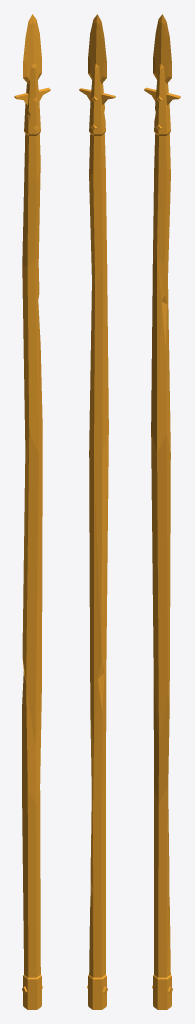
Rendered from SM_Spear_Fantasy.fbx.
3 views of the same model, side by side, from view 1: azimuth 30°, elevation 25°; view 2: azimuth 150°, elevation 25°; view 3: azimuth 330°, elevation 25° (orthographic).
Parts seen in each view (by area): view 1: spear-fantasy; view 2: spear-fantasy; view 3: spear-fantasy.
Part boxes in pixels (x1,y1,x2,y2): spear-fantasy: [14, 14, 50, 1009]; spear-fantasy: [79, 14, 115, 1009]; spear-fantasy: [144, 14, 180, 1009].
Bounding box in the file's own units: 0.0866 × 2.38 × 0.0491.
